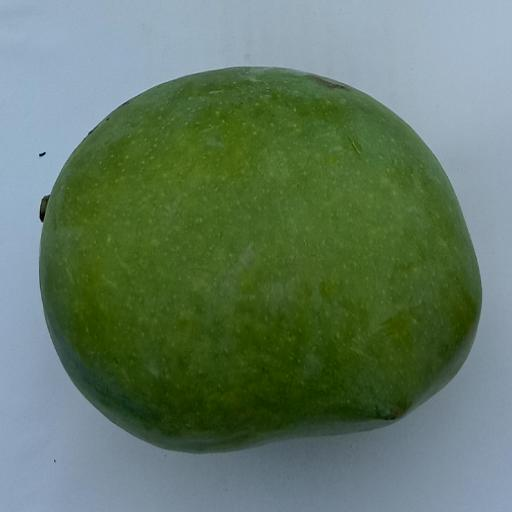mango-unripe: (23, 53, 491, 459)
